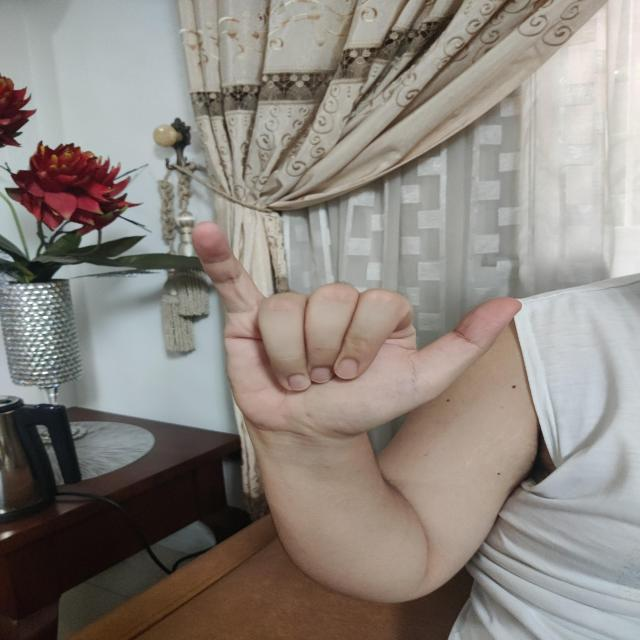Y: (190, 221, 524, 438)
